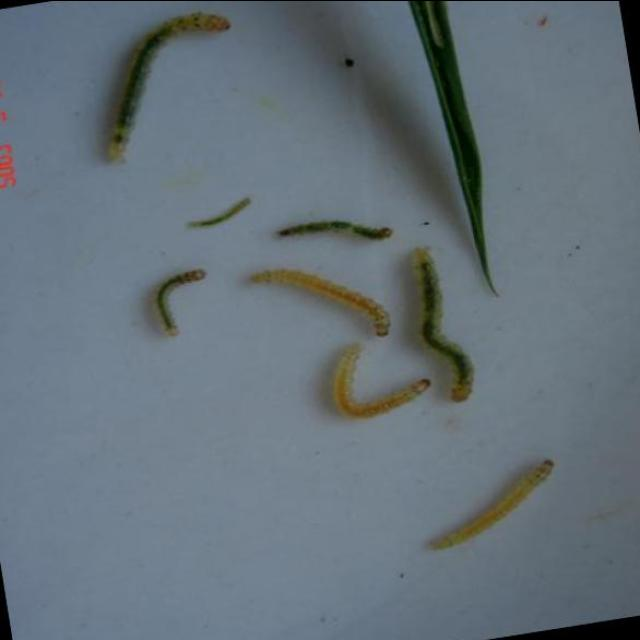leaf folder: (108, 14, 227, 161), (431, 460, 555, 550), (414, 248, 474, 402), (250, 270, 390, 335), (333, 344, 431, 418), (156, 270, 205, 335), (278, 221, 393, 239), (188, 198, 251, 228)
